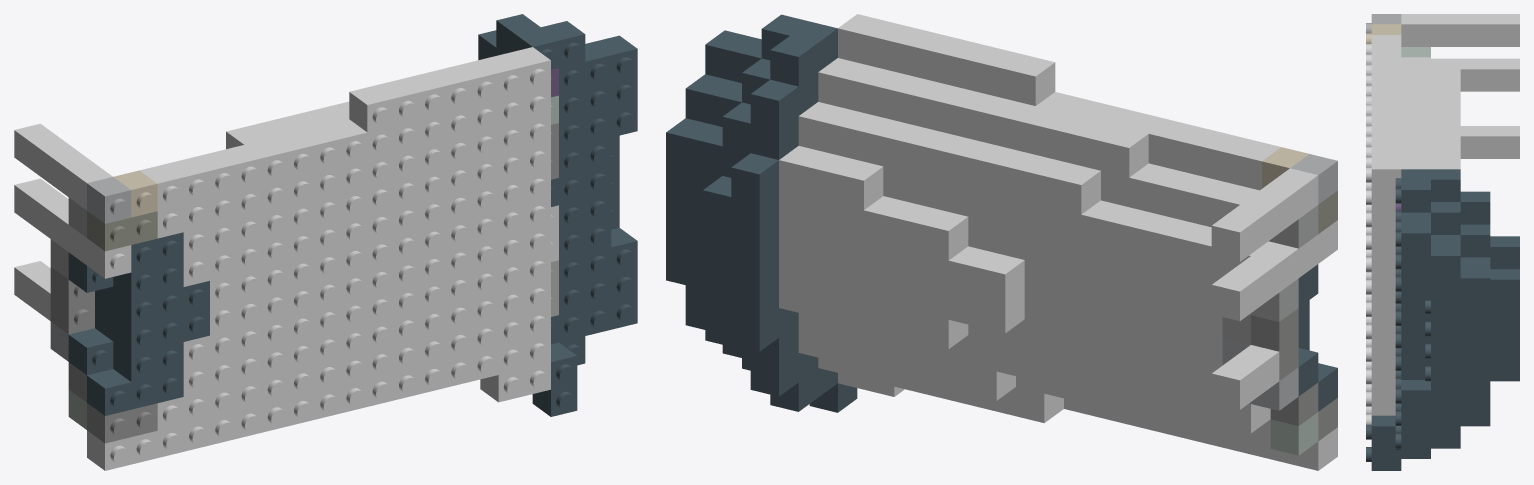
Rendered from full.glb.
The picture shows the model from 3 angles, left to right: view 1: azimuth 30°, elevation 25°; view 2: azimuth 150°, elevation 25°; view 3: azimuth 270°, elevation 25°; orthographic projection. The views are drawn at different scales.
Parts seen in each view (by area): view 1: world; view 2: world; view 3: world.
Boxes of the visible parts, left/top/right/bottom form: world: left=14, top=14, right=637, bottom=470; world: left=666, top=14, right=1337, bottom=470; world: left=1366, top=14, right=1519, bottom=470.
Size of the model in its own units: 168 by 104 by 49.8.
